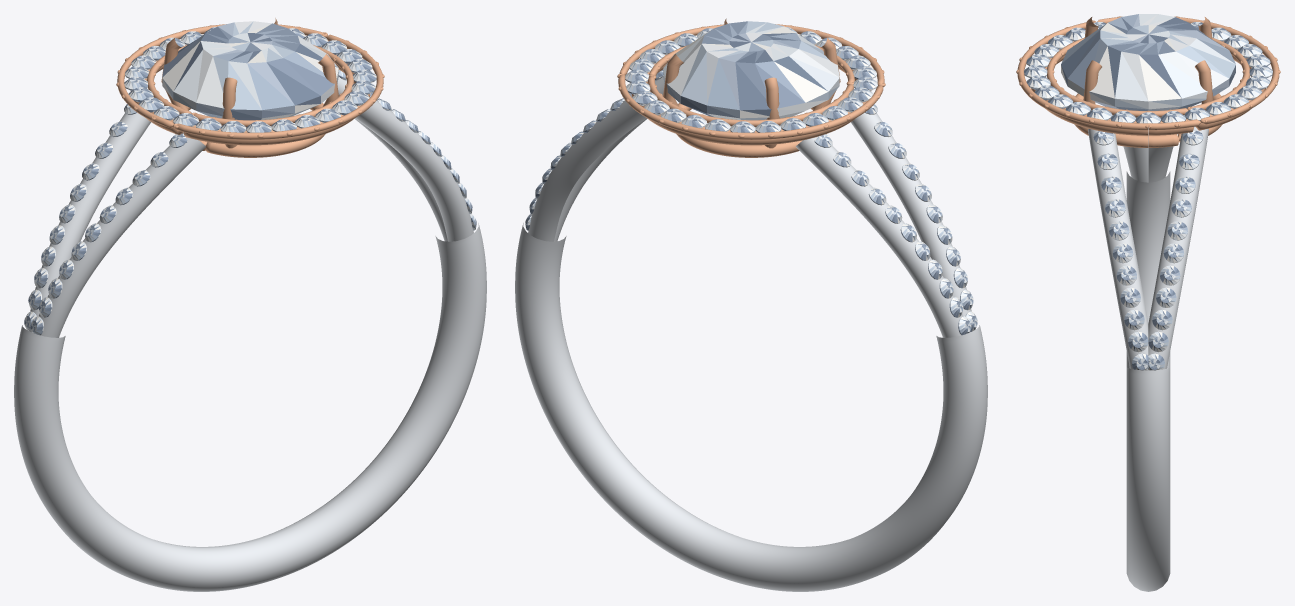
File: ring.glb
The picture shows the model from 3 angles, left to right: view 1: azimuth 30°, elevation 25°; view 2: azimuth 150°, elevation 25°; view 3: azimuth 270°, elevation 25°; orthographic projection.
Parts seen in each view (by area): view 1: Halo split-shank ring; view 2: Halo split-shank ring; view 3: Halo split-shank ring.
Part boxes in pixels (x1=…): Halo split-shank ring: x1=14, y1=18, x2=486, y2=591; Halo split-shank ring: x1=515, y1=18, x2=987, y2=591; Halo split-shank ring: x1=1016, y1=14, x2=1280, y2=591.
Bounding box in the file's own units: 0.0196 × 0.0217 × 0.00978.
